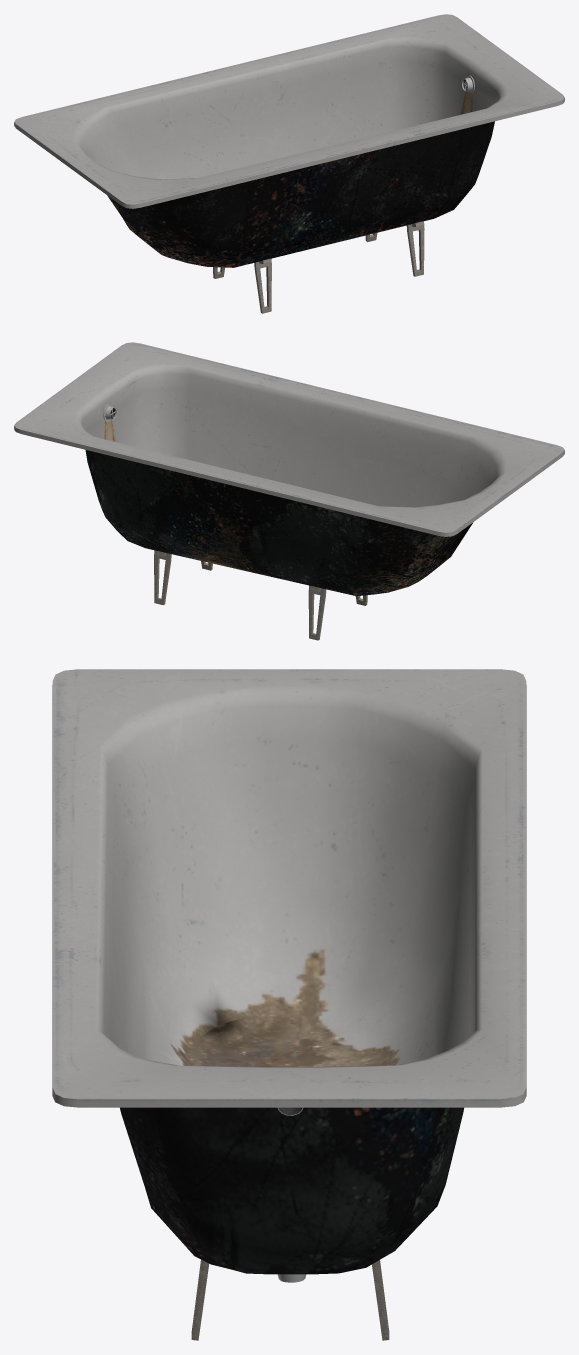
The model's file is bath_obj.obj.
The picture shows the model from 3 angles, top to bottom: view 1: azimuth 30°, elevation 25°; view 2: azimuth 150°, elevation 25°; view 3: azimuth 270°, elevation 25°; orthographic projection. The views are drawn at different scales.
Parts seen in each view (by area): view 1: bath_obj:bath_max; view 2: bath_obj:bath_max; view 3: bath_obj:bath_max.
Part boxes in pixels (x1,y1,x2,y2): bath_obj:bath_max: [14, 14, 564, 313]; bath_obj:bath_max: [14, 342, 564, 640]; bath_obj:bath_max: [52, 669, 526, 1340].
Bounding box in the file's own units: 44.06 × 16.68 × 20.53.
1 material, 1 textured.
